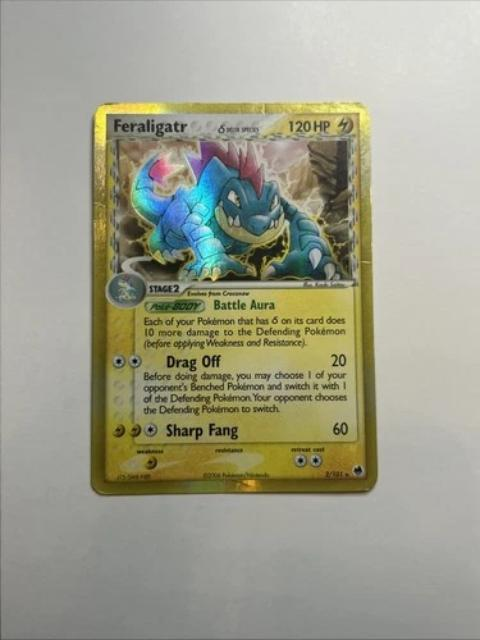Card: (83, 92, 379, 500)
Name: (108, 115, 189, 138)
